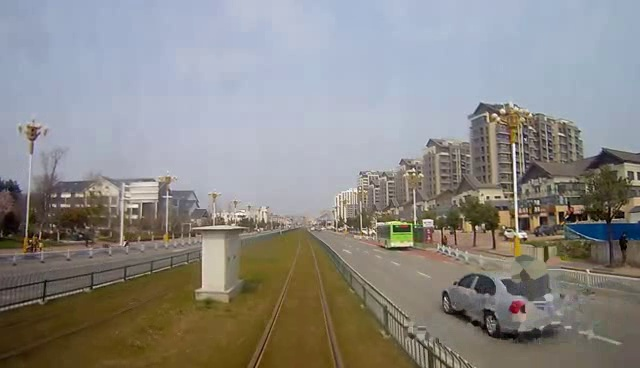bus: (376, 217, 421, 256)
car: (441, 267, 571, 339)
